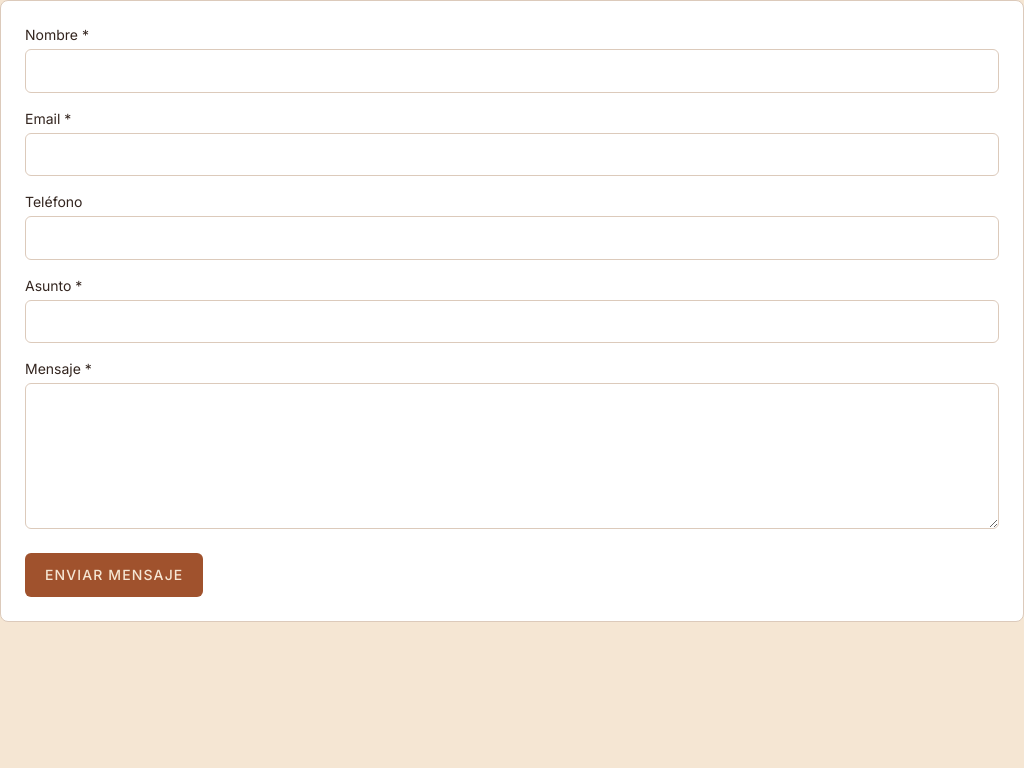
Test: ContactForm › envío válido muestra confirmación
The image size is (1024, 768).
Type "Ana" into the field labelled "Nombre *" at (512, 71), box [25, 49, 999, 93]
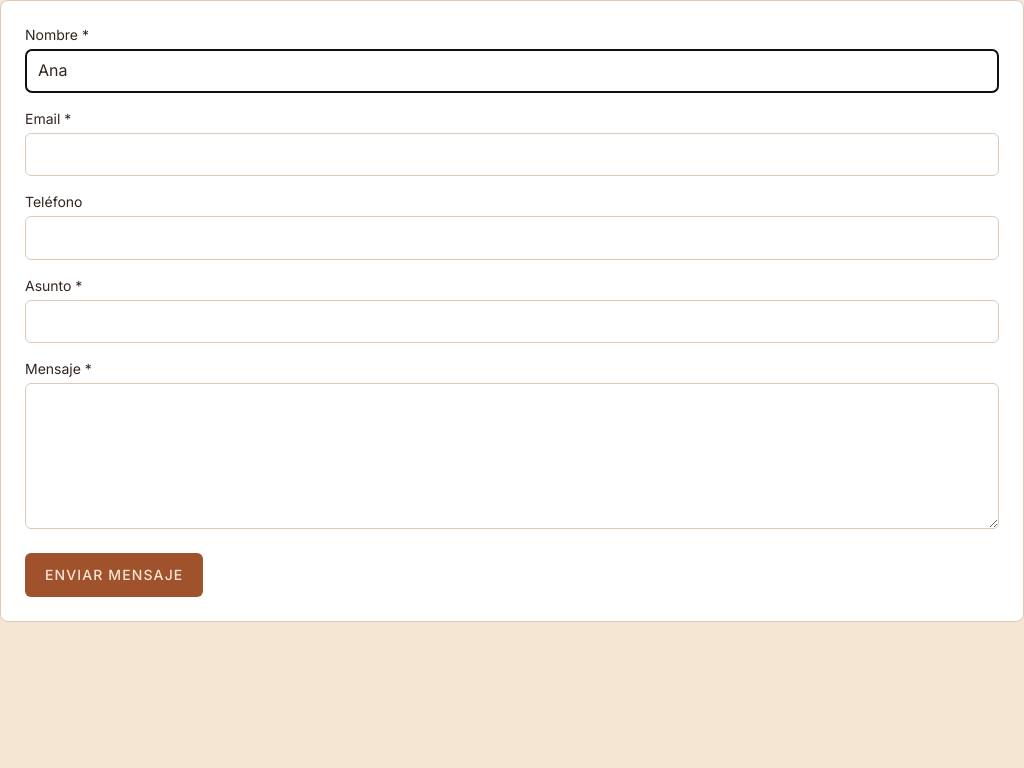
Type "ana@correo.com" into the field labelled "Email *" at (512, 154), box [25, 133, 999, 176]
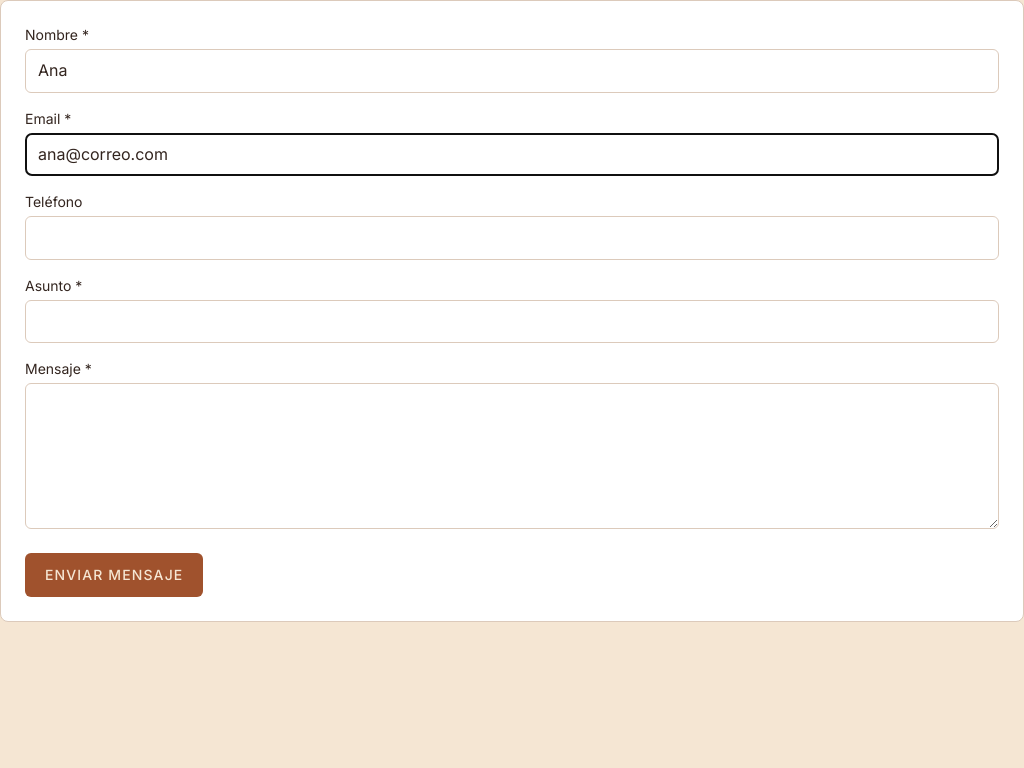
Type "Consulta" into the field labelled "Asunto *" at (512, 322), box [25, 300, 999, 343]
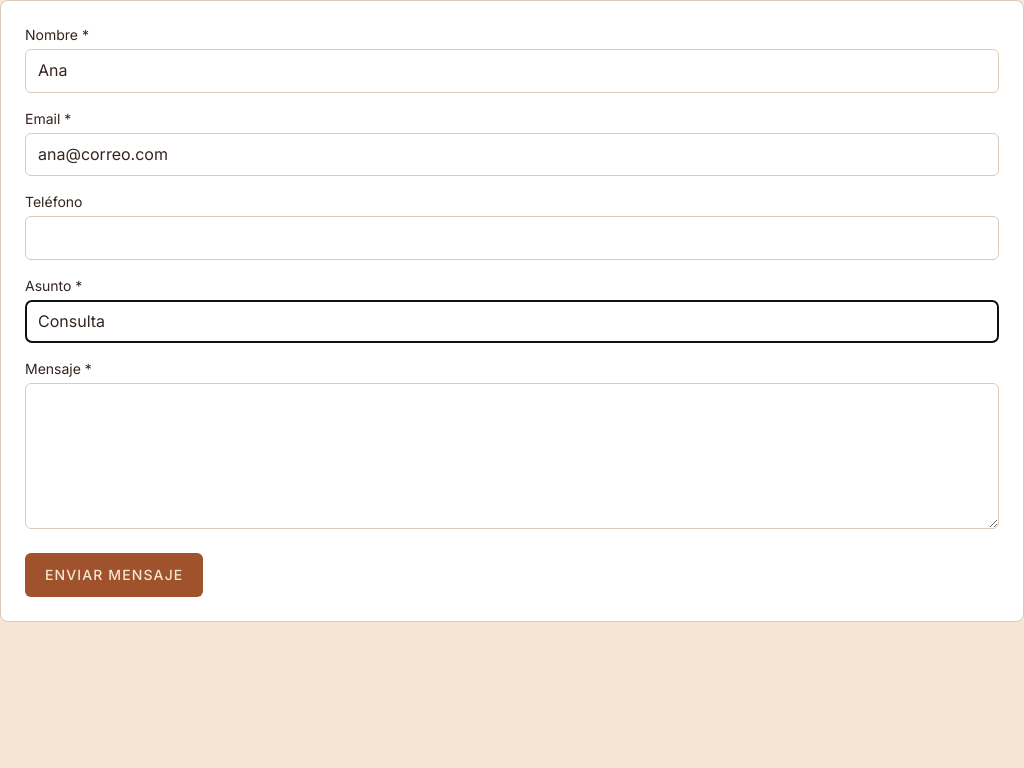
Type "Quiero un presupuesto" into the text box labelled "Mensaje *" at (512, 456), box [25, 383, 999, 529]
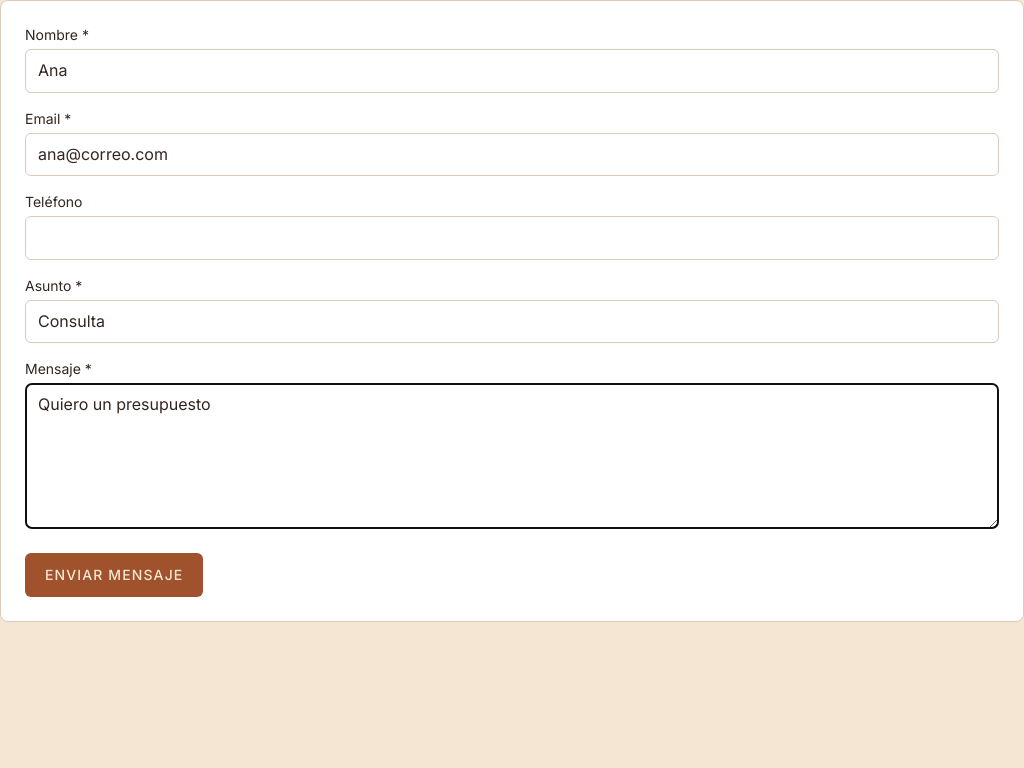
Click the button "Enviar mensaje" at (114, 575), box [25, 553, 203, 597]
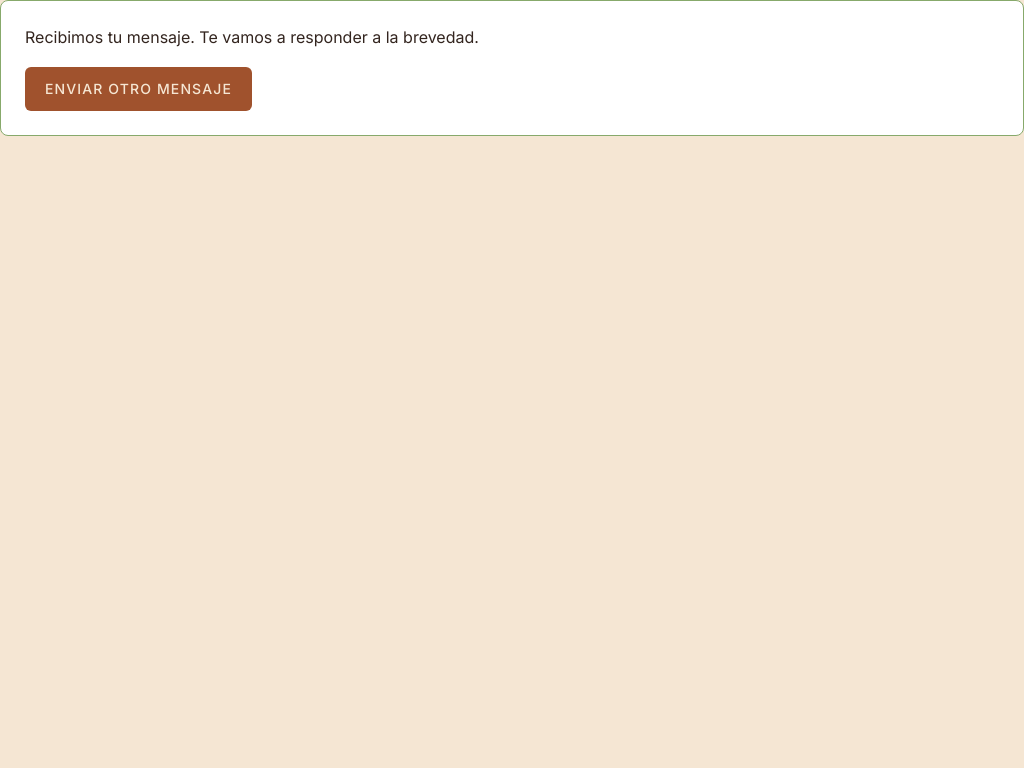
Now the message shows "Recibimos tu mensaje", box [25, 27, 479, 47]
